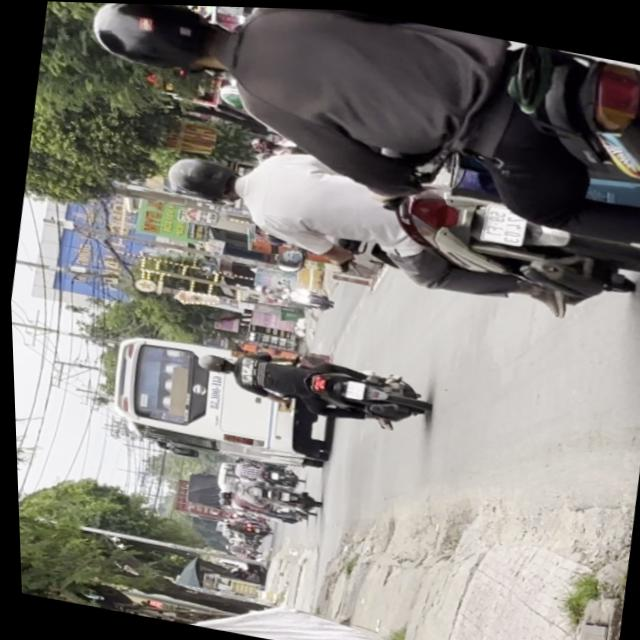helmet: (84, 2, 237, 83), (159, 149, 247, 205), (192, 350, 231, 374)
licenseplate: (68, 2, 640, 256), (144, 126, 640, 330), (186, 333, 429, 435)
nohelmet: (477, 200, 525, 244), (340, 378, 362, 399)
